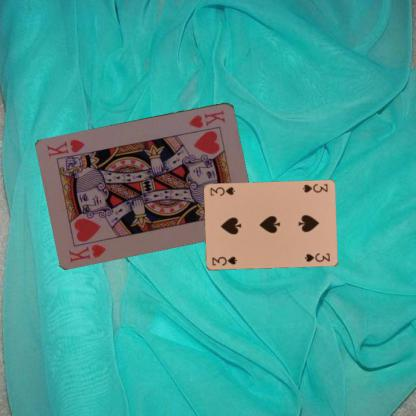3s: (209, 254, 238, 267), (300, 182, 329, 194)
Kh: (186, 107, 227, 130), (66, 241, 107, 263)
